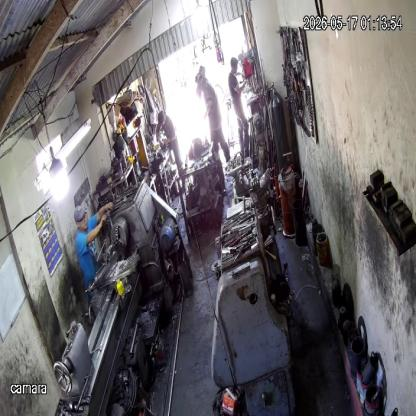lentes: (76, 214, 88, 224)
